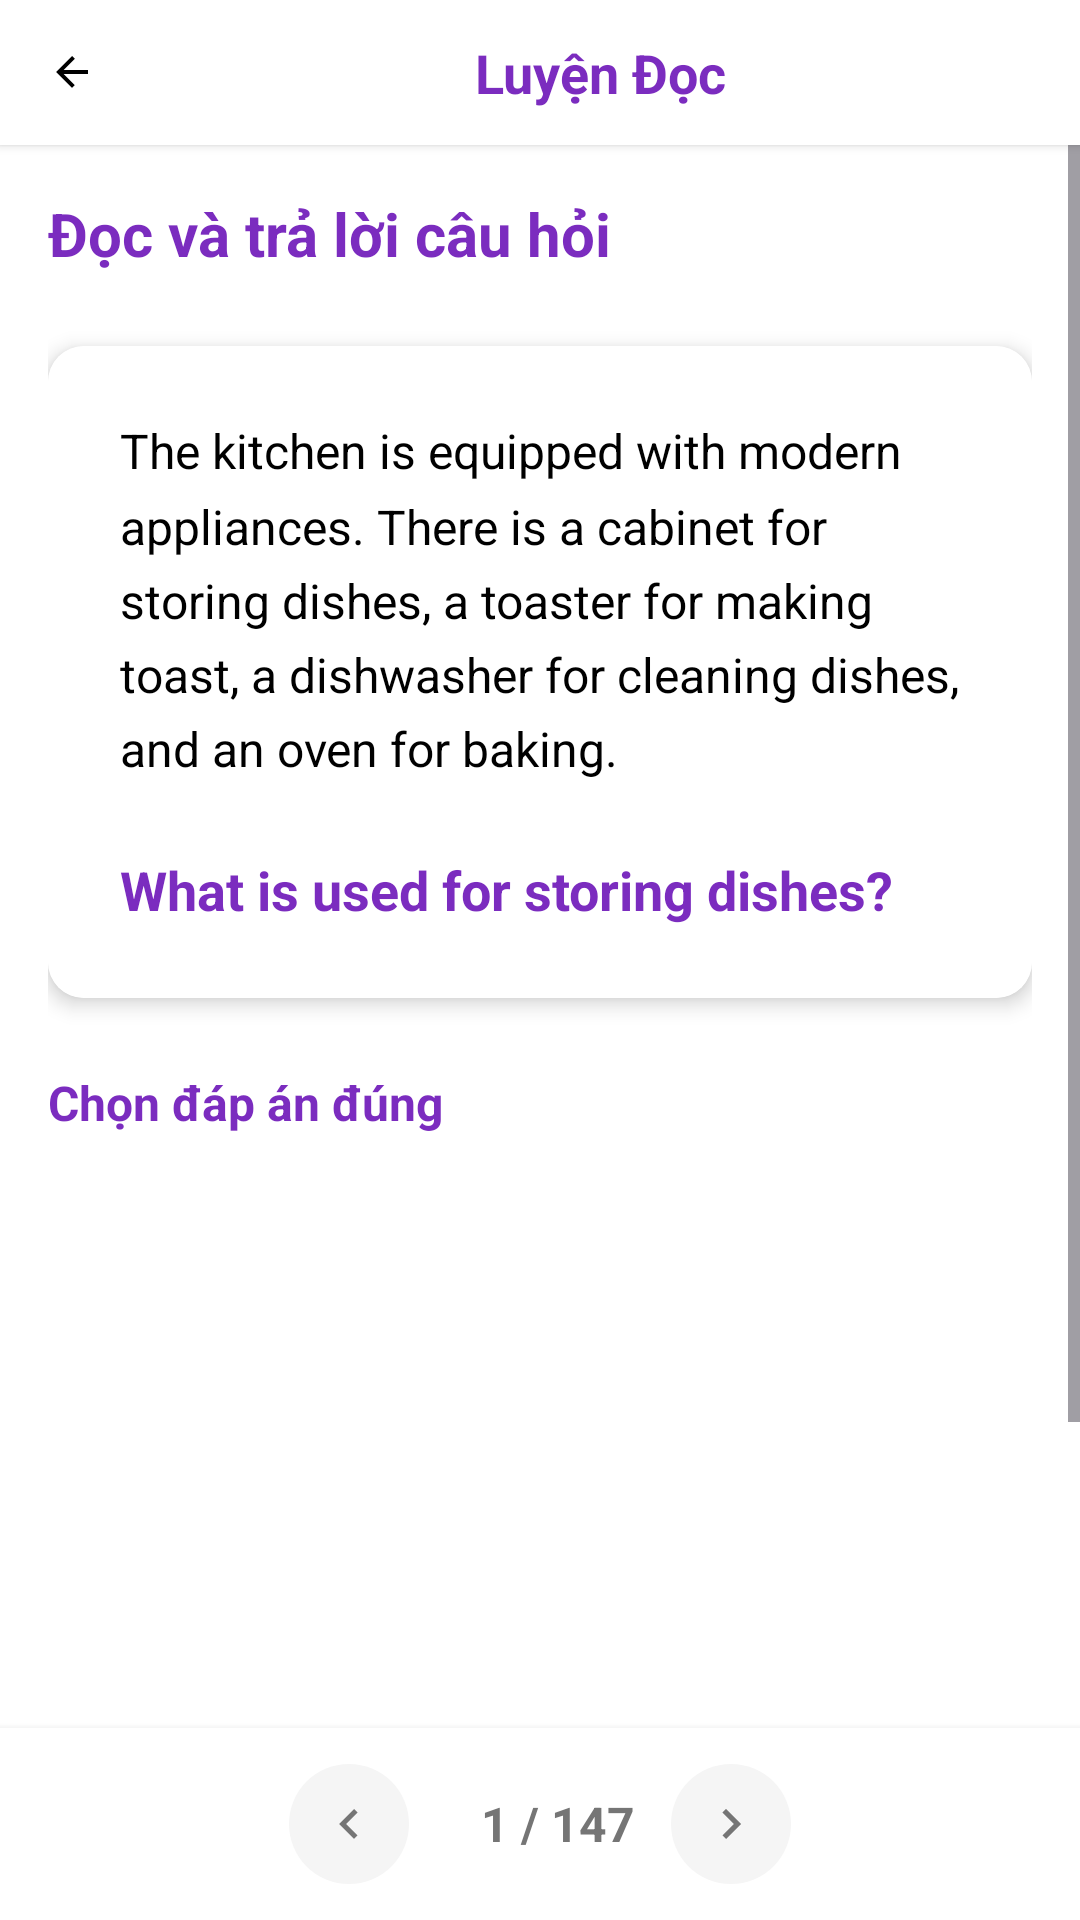

Icons on this 1080px×1920px Android screen, each with its box as (x1, y1, x2, y2):
arrow back: (56, 56, 88, 88)
arrow left: (289, 1764, 409, 1884)
arrow right: (671, 1764, 791, 1884)
